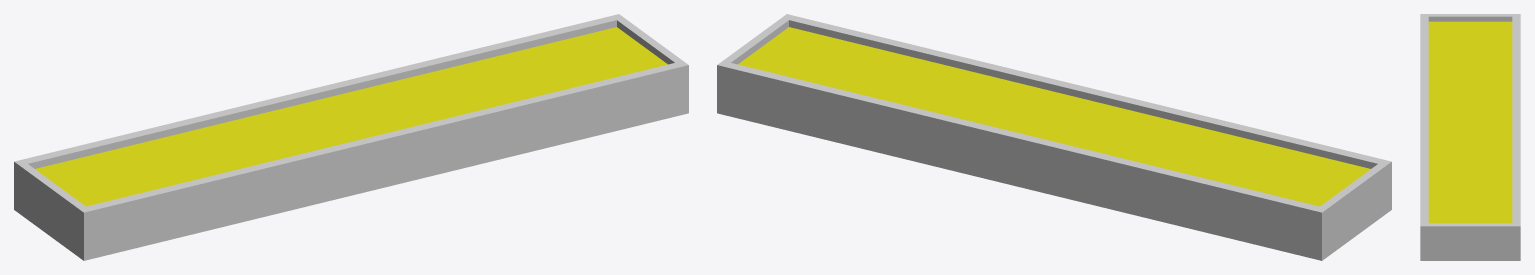
The model's file is SM_Fluorescent_Lamp.fbx.
The picture shows the model from 3 angles, left to right: view 1: azimuth 30°, elevation 25°; view 2: azimuth 150°, elevation 25°; view 3: azimuth 270°, elevation 25°; orthographic projection. The views are drawn at different scales.
Visible parts, largest first — view 1: Cube; view 2: Cube; view 3: Cube.
Boxes of the visible parts, x1,y1,x2,y2 form: Cube: (14, 14, 688, 260); Cube: (717, 14, 1391, 260); Cube: (1420, 14, 1520, 260).
Size of the model in its own units: 200 by 15.26 by 39.96.
